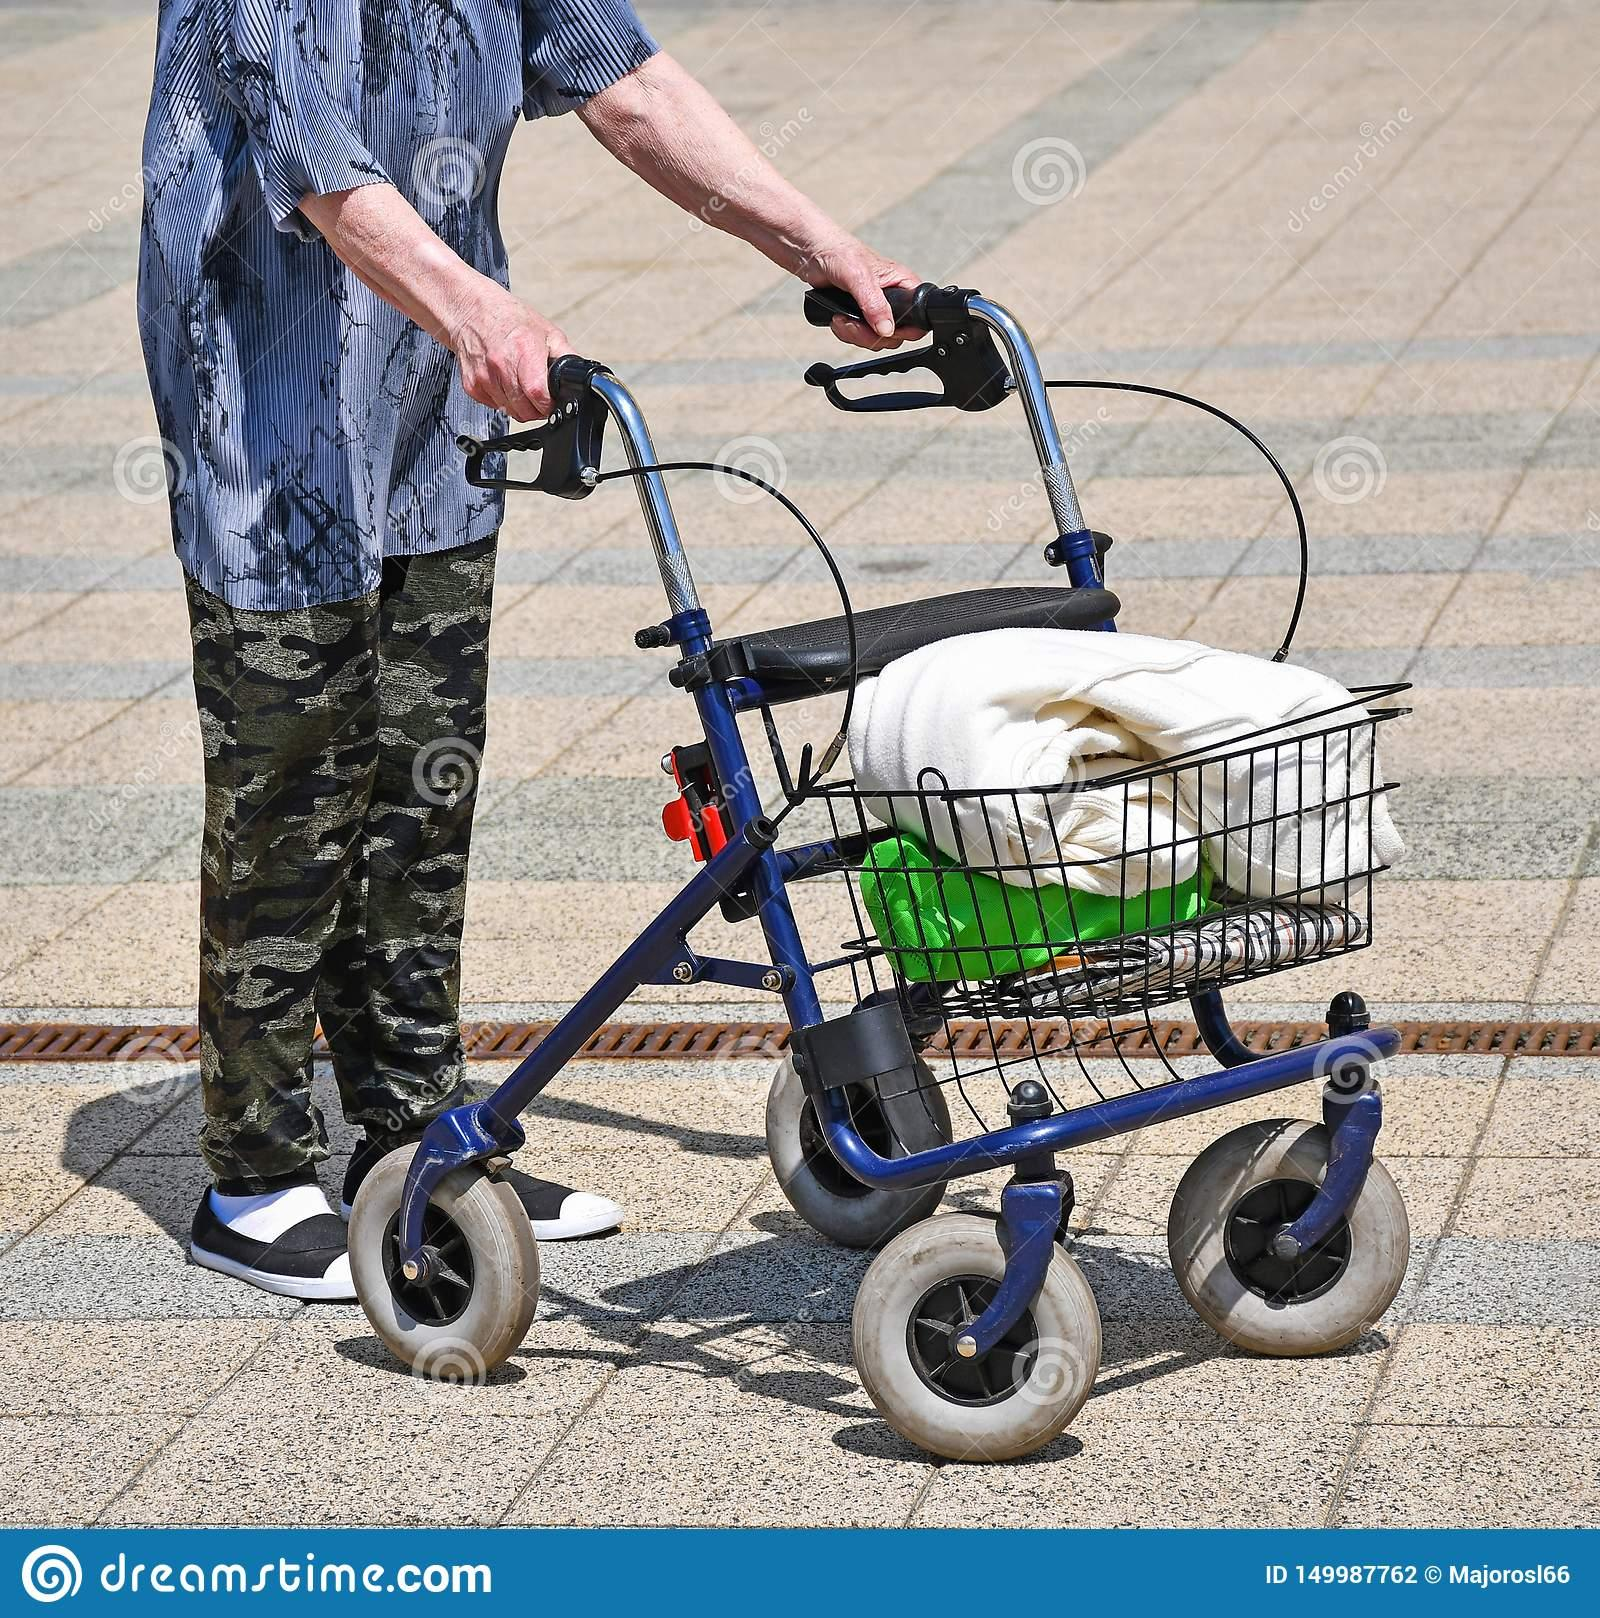walking_frame: (139, 0, 1411, 1463)
